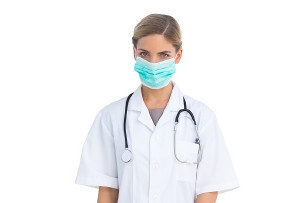Mask: (134, 46, 177, 89)
